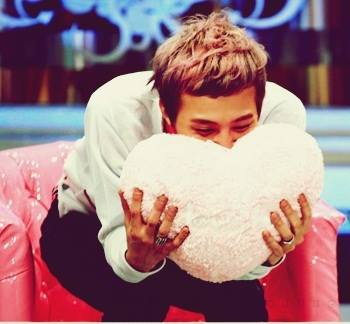face: (174, 82, 259, 168)
